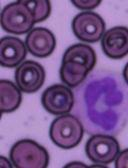N: (70, 68, 126, 136)
